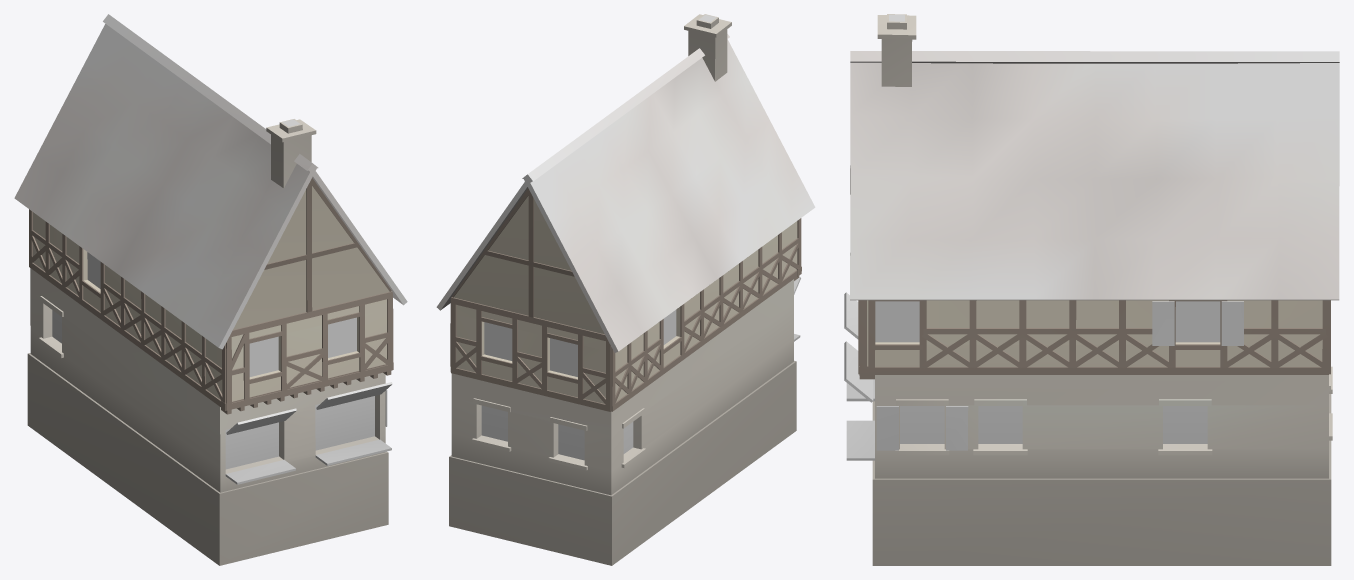
Rendered from townhouse_1.glb.
3 views of the same model, side by side, from view 1: azimuth 30°, elevation 25°; view 2: azimuth 150°, elevation 25°; view 3: azimuth 270°, elevation 25° (orthographic). The views are drawn at different scales.
Parts seen in each view (by area): view 1: townhouse_1; view 2: townhouse_1; view 3: townhouse_1.
Part boxes in pixels (bbox=[...]): townhouse_1: bbox=[14, 14, 407, 565]; townhouse_1: bbox=[436, 14, 815, 565]; townhouse_1: bbox=[844, 14, 1339, 565].
Size of the model in its own units: 6.45 by 13.54 by 12.23.
